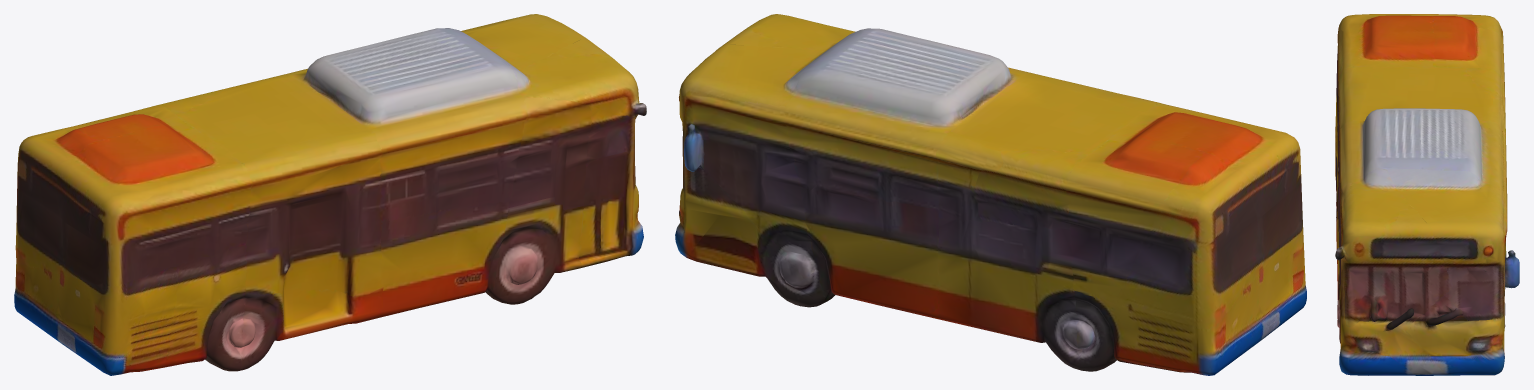
Rendered from city_bus.glb.
3 views of the same model, side by side, from view 1: azimuth 30°, elevation 25°; view 2: azimuth 150°, elevation 25°; view 3: azimuth 270°, elevation 25° (orthographic). The views are drawn at different scales.
Visible parts, largest first — view 1: tripo_node_a41d4e14-8df0-4520-9163-fee31f1ed7d3; view 2: tripo_node_a41d4e14-8df0-4520-9163-fee31f1ed7d3; view 3: tripo_node_a41d4e14-8df0-4520-9163-fee31f1ed7d3.
Boxes of the visible parts, x1,y1,x2,y2 form: tripo_node_a41d4e14-8df0-4520-9163-fee31f1ed7d3: (14,14,646,375); tripo_node_a41d4e14-8df0-4520-9163-fee31f1ed7d3: (675,14,1306,375); tripo_node_a41d4e14-8df0-4520-9163-fee31f1ed7d3: (1335,14,1519,375).
Bounding box in the file's own units: 0.9374 × 0.3692 × 0.3286.
Materials: 1 (1 with a texture image).
